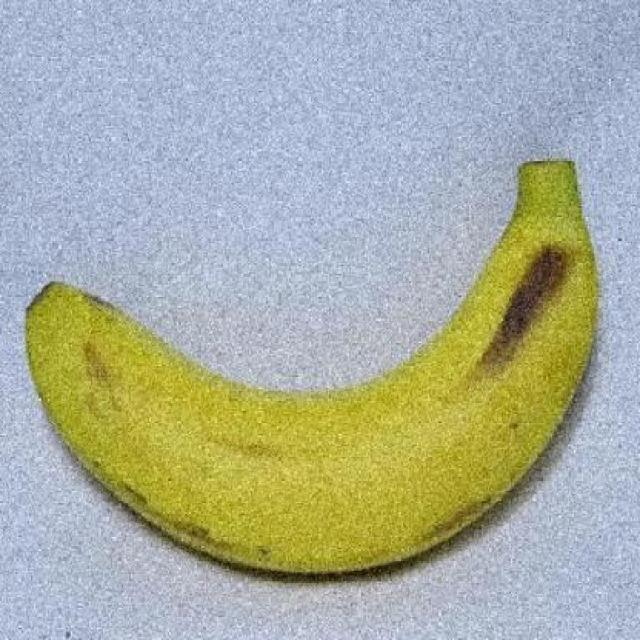ripe: (18, 141, 640, 607)
